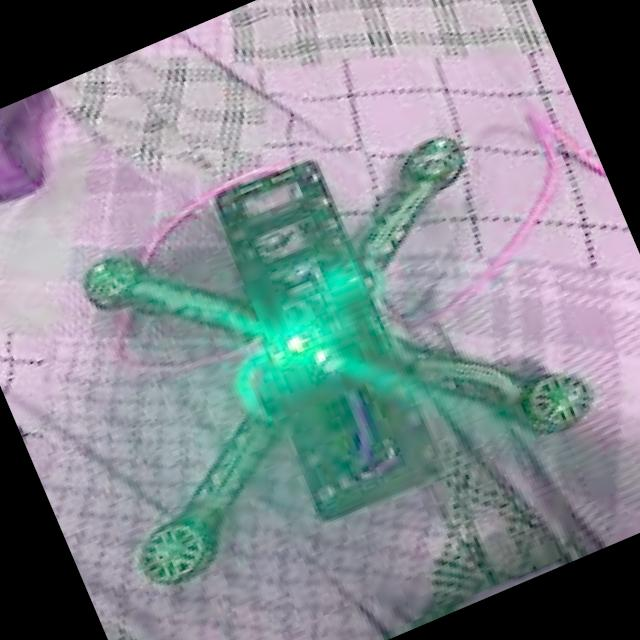drone: (8, 43, 634, 640)
